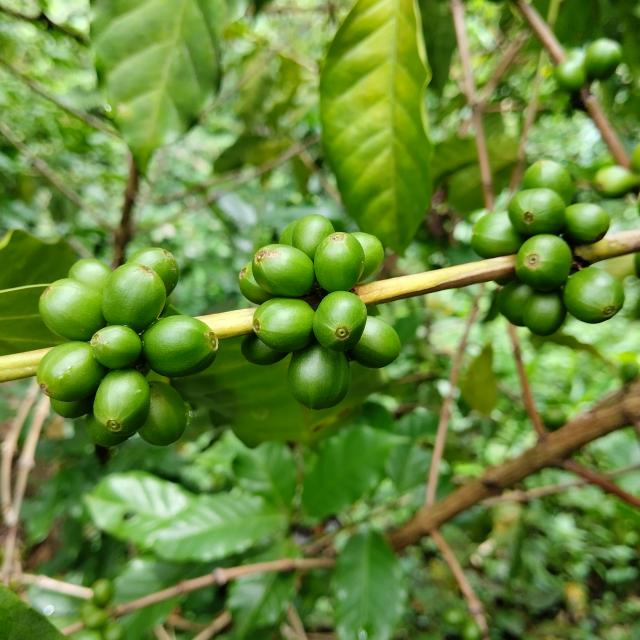green: (140, 315, 218, 378), (101, 263, 166, 333), (287, 341, 351, 411), (35, 341, 107, 402), (38, 278, 105, 342), (93, 369, 150, 436), (564, 266, 626, 324), (137, 382, 193, 446), (252, 298, 315, 353), (313, 290, 368, 351), (252, 244, 315, 297), (516, 234, 573, 291), (314, 232, 364, 292), (347, 316, 401, 369), (508, 188, 567, 236), (125, 247, 179, 296), (471, 211, 526, 258), (523, 158, 574, 206), (89, 325, 141, 370), (292, 214, 335, 261), (523, 292, 567, 336), (565, 203, 611, 244), (84, 413, 134, 448), (350, 232, 384, 282), (498, 281, 535, 326), (239, 261, 276, 305), (241, 333, 288, 366), (68, 258, 111, 293), (49, 394, 94, 419), (279, 220, 298, 246)
